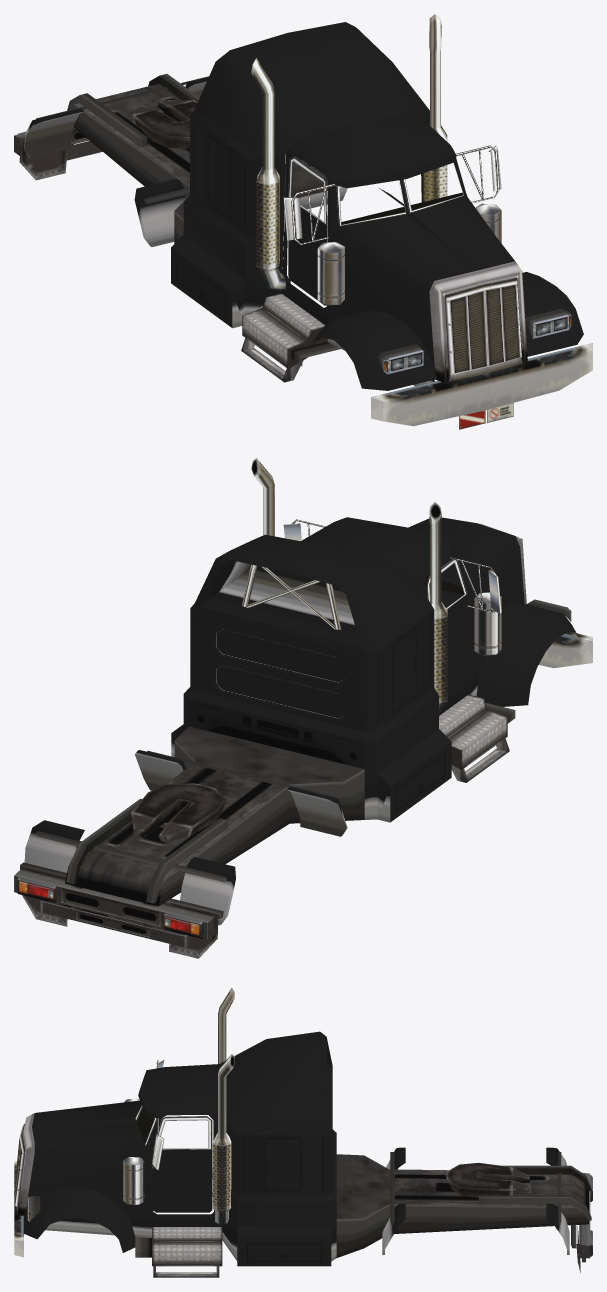
The model's file is car-HEVY_Car8.glb.
The picture shows the model from 3 angles, top to bottom: view 1: azimuth 30°, elevation 25°; view 2: azimuth 150°, elevation 25°; view 3: azimuth 270°, elevation 25°; orthographic projection. The views are drawn at different scales.
Visible parts, largest first — view 1: HEVY_Car8; view 2: HEVY_Car8; view 3: HEVY_Car8.
Boxes of the visible parts, x1,y1,x2,y2 form: HEVY_Car8: (14,14,592,429); HEVY_Car8: (14,458,592,958); HEVY_Car8: (14,988,592,1277).
Bounding box in the file's own units: 2.64 × 3.27 × 7.69.
Materials: 5 (5 with a texture image).
